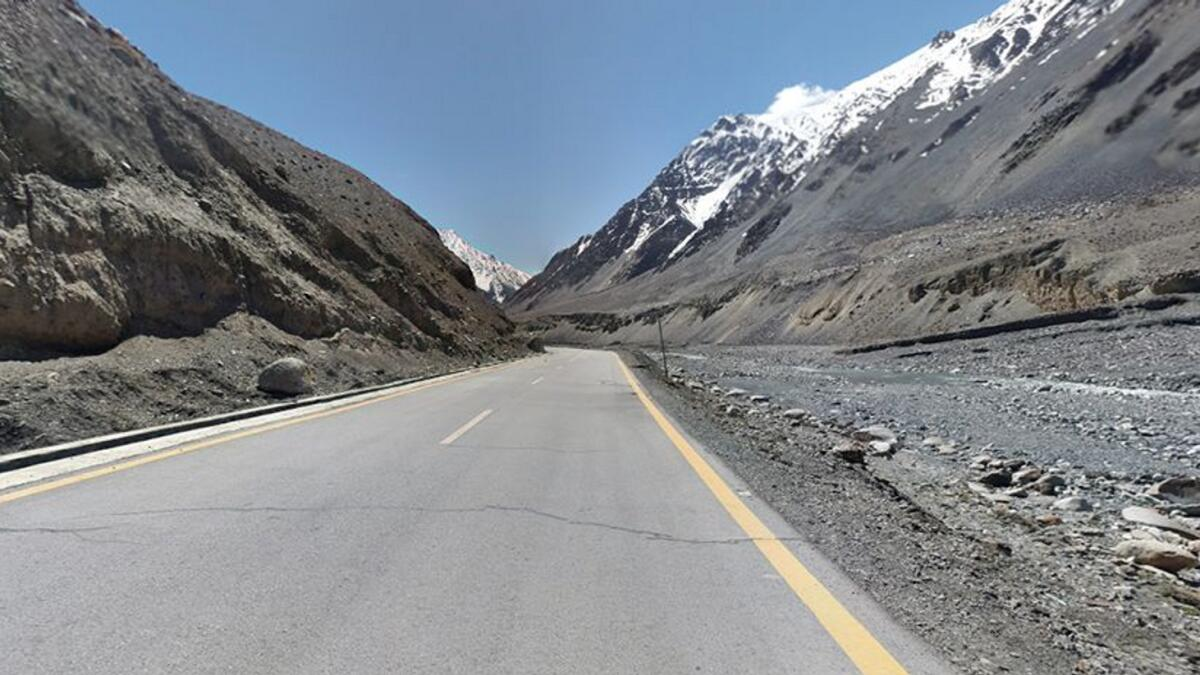straightRoad: (338, 307, 686, 675)
